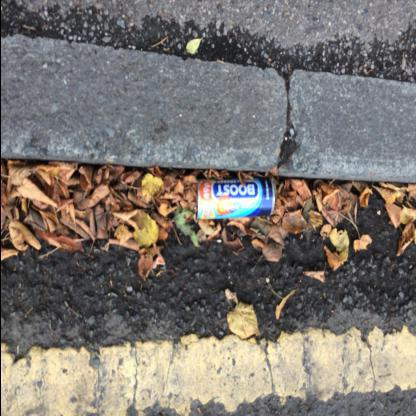metal: (196, 178, 275, 222)
